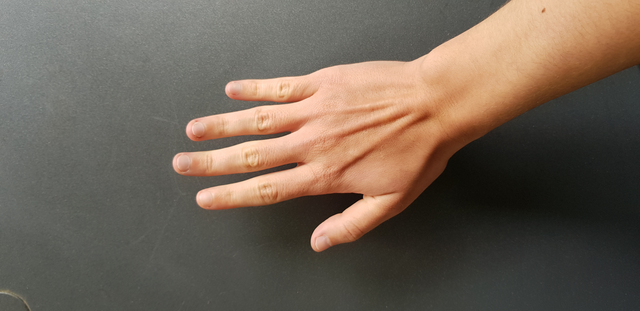Paper: (161, 48, 459, 260)
